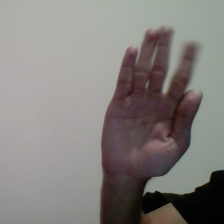left: (97, 18, 206, 182)
